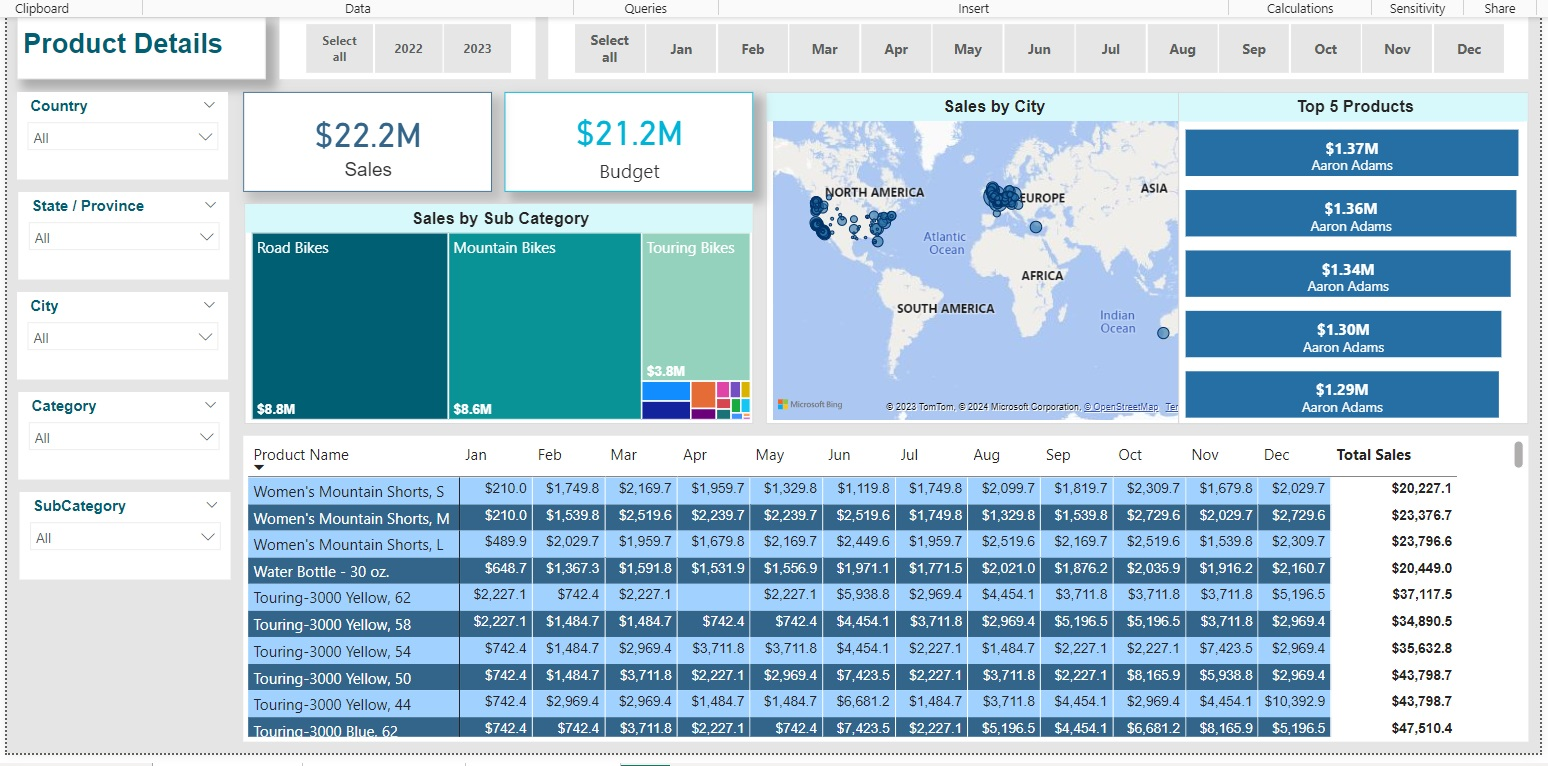

The page's visual inventory and layout, read from the dashboard file:
{"tool":"powerbi","page":{"name":"Product Details","canvas":[1500,720],"ordinal":2},"visuals":[{"type":"textbox","box":[9.8,0,243.3,61.1],"z":0},{"type":"slicer","fields":{"Values":["DimCustomers.City"]},"box":[9.8,268.9,206.6,85.6],"z":1000},{"type":"slicer","fields":{"Values":["DimCustomers.Country"]},"box":[9.8,73.3,206.6,85.6],"z":2000},{"type":"slicer","fields":{"Values":["DimCustomers.State / Province"]},"box":[11,171.1,206.6,85.6],"z":3000},{"type":"slicer","fields":{"Values":["DimProducts.Category"]},"box":[11,366.7,206.6,85.6],"z":4000},{"type":"slicer","fields":{"Values":["DimProducts.SubCategory"]},"box":[12.2,464.5,206.6,85.6],"z":5000},{"type":"slicer","fields":{"Values":["DimCalendar.Year"]},"box":[266.5,0,250.6,61.1],"z":6000},{"type":"slicer","fields":{"Values":["DimCalendar.MonthShort"]},"box":[529.3,0,958.4,61.1],"z":7000},{"type":"map","title":"Sales by City","fields":{"Category":["DimCustomers.City"],"Size":["Key Measures.Total Sales"]},"box":[742,73.3,443.7,325.2],"z":8000},{"type":"card","fields":{"Values":["Key Measures.Total Budget"]},"box":[486.5,73.3,243.3,97.8],"z":9000},{"type":"card","fields":{"Values":["Key Measures.Total Sales"]},"box":[231,73.3,243.3,97.8],"z":10000},{"type":"pivotTable","fields":{"Columns":["DimCalendar.MonthShort"],"Values":["Key Measures.Total Sales"],"Rows":["DimProducts.ProductName"]},"box":[231,409.5,1256.6,299.5],"z":11000},{"type":"barChart","title":"Top 5 Products","fields":{"Y":["Key Measures.Total Sales"],"Category":["DimProducts.ProductName"]},"box":[1145.4,73.3,342.3,325.2],"z":12000},{"type":"treemap","title":"Sales by Sub Category","fields":{"Group":["DimProducts.SubCategory"],"Values":["Key Measures.Total Sales"]},"box":[232.3,182.1,497.5,216.4],"z":13000}]}

Visuals, with their boxes on the page's 1500x720 design canvas (x1, y1, x2, y2). These are canvas units, not pixel positions in the 1548x766 screenshot, which may show the page scaled, cropped or inside an application window:
textbox: [x1=10, y1=0, x2=253, y2=61]
slicer - DimCustomers.City: [x1=10, y1=269, x2=216, y2=354]
slicer - DimCustomers.Country: [x1=10, y1=73, x2=216, y2=159]
slicer - DimCustomers.State / Province: [x1=11, y1=171, x2=218, y2=257]
slicer - DimProducts.Category: [x1=11, y1=367, x2=218, y2=452]
slicer - DimProducts.SubCategory: [x1=12, y1=464, x2=219, y2=550]
slicer - DimCalendar.Year: [x1=266, y1=0, x2=517, y2=61]
slicer - DimCalendar.MonthShort: [x1=529, y1=0, x2=1488, y2=61]
"Sales by City" map: [x1=742, y1=73, x2=1186, y2=398]
card - Key Measures.Total Budget: [x1=486, y1=73, x2=730, y2=171]
card - Key Measures.Total Sales: [x1=231, y1=73, x2=474, y2=171]
pivotTable - DimCalendar.MonthShort x Key Measures.Total Sales: [x1=231, y1=410, x2=1488, y2=709]
"Top 5 Products" barChart: [x1=1145, y1=73, x2=1488, y2=398]
"Sales by Sub Category" treemap: [x1=232, y1=182, x2=730, y2=398]
